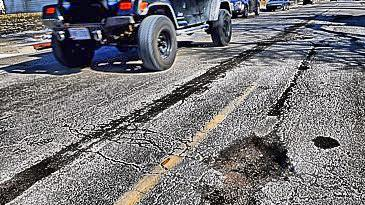pothole: (204, 131, 287, 205)
